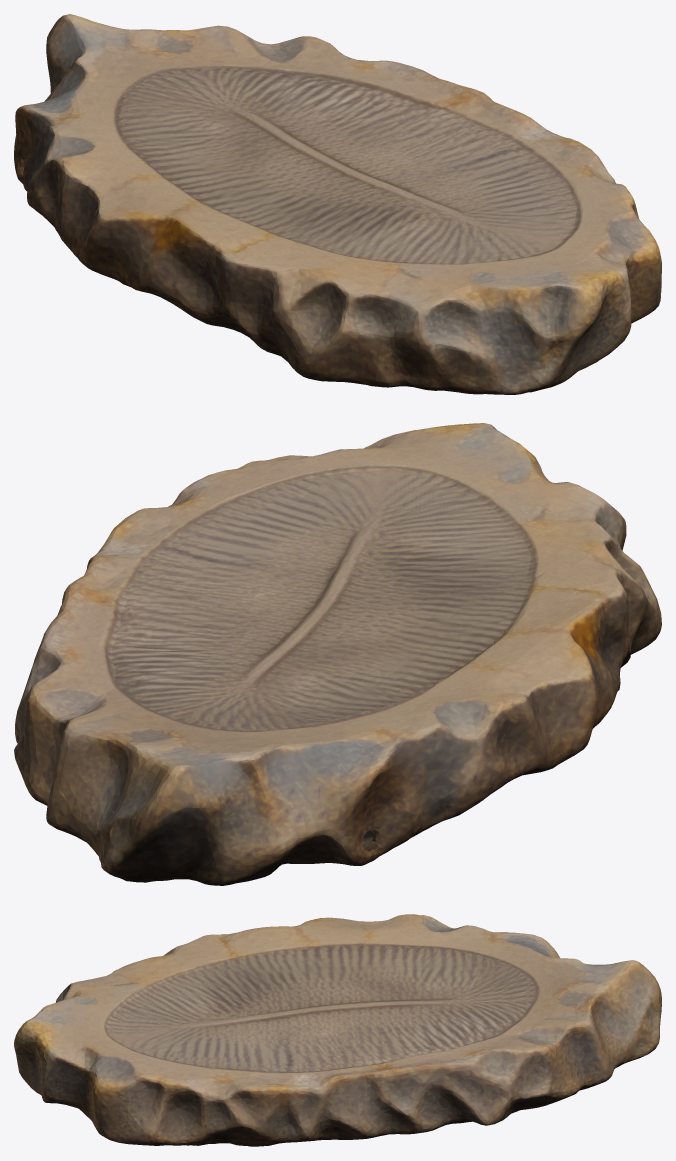
3 views of the same model, one above another, from view 1: azimuth 30°, elevation 25°; view 2: azimuth 150°, elevation 25°; view 3: azimuth 270°, elevation 25° (orthographic). The views are drawn at different scales.
Parts seen in each view (by area): view 1: world; view 2: world; view 3: world.
Boxes of the visible parts, box(x1,y1,x2,y2) form: world: box(14, 14, 661, 394); world: box(14, 423, 661, 885); world: box(14, 914, 661, 1146).
Bounding box in the file's own units: 0.6362 × 0.1562 × 0.9946.
1 material, 1 textured.
